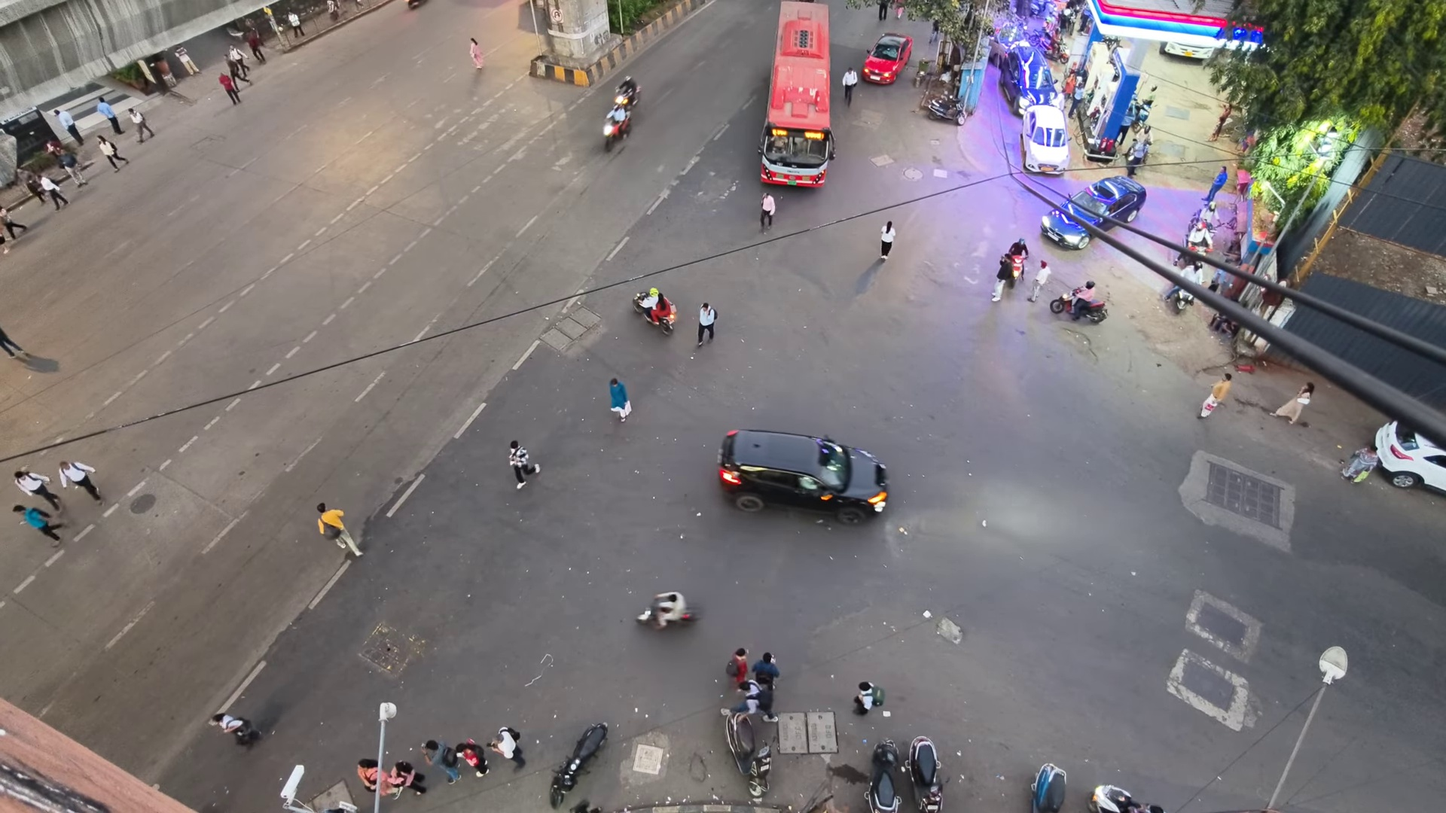walking: (317, 503, 362, 556), (14, 506, 63, 547), (14, 470, 61, 510), (59, 461, 102, 502), (1273, 382, 1314, 423), (421, 740, 459, 784), (210, 713, 260, 746), (489, 726, 525, 769), (509, 440, 539, 489), (1199, 373, 1231, 418), (385, 762, 426, 797), (1341, 446, 1378, 482), (456, 738, 489, 777), (53, 108, 83, 145), (97, 136, 127, 171), (1208, 102, 1233, 142), (40, 176, 69, 210), (96, 97, 123, 133), (609, 378, 631, 422), (991, 254, 1012, 300), (0, 327, 29, 360), (1028, 260, 1051, 301), (1202, 166, 1228, 202), (0, 206, 28, 239), (725, 647, 747, 689), (854, 683, 883, 714), (752, 653, 780, 685), (129, 108, 154, 142), (697, 302, 716, 345), (228, 44, 249, 81), (357, 760, 381, 792), (22, 172, 46, 203), (174, 47, 200, 75), (226, 56, 251, 84), (1068, 81, 1086, 117), (246, 29, 265, 63), (218, 74, 239, 104), (842, 66, 858, 105), (880, 221, 895, 260), (761, 191, 775, 229), (469, 38, 484, 69), (1209, 269, 1229, 291), (288, 12, 304, 37), (877, 0, 890, 20), (327, 0, 339, 21)
